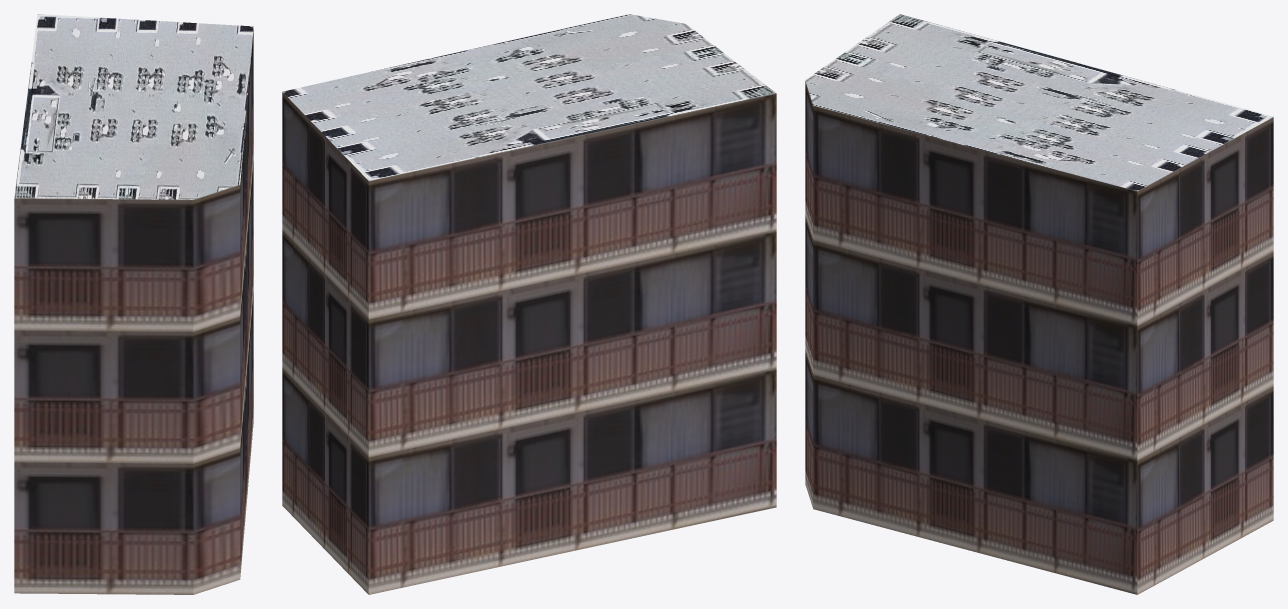
The model's file is ResTex__3722.fbx.
The picture shows the model from 3 angles, left to right: view 1: azimuth 30°, elevation 25°; view 2: azimuth 150°, elevation 25°; view 3: azimuth 270°, elevation 25°; orthographic projection. The views are drawn at different scales.
Parts seen in each view (by area): view 1: CityEngineMaterial_6_m, CityEngineMaterial_m; view 2: CityEngineMaterial_6_m, CityEngineMaterial_m; view 3: CityEngineMaterial_6_m, CityEngineMaterial_m.
Part boxes in pixels (x1=…): CityEngineMaterial_6_m: x1=14, y1=29, x2=253, y2=594; CityEngineMaterial_m: x1=14, y1=14, x2=253, y2=199; CityEngineMaterial_6_m: x1=282, y1=92, x2=776, y2=594; CityEngineMaterial_m: x1=282, y1=14, x2=776, y2=180; CityEngineMaterial_6_m: x1=805, y1=81, x2=1273, y2=594; CityEngineMaterial_m: x1=805, y1=14, x2=1273, y2=191.
Size of the model in its own units: 8.48 by 9 by 9.47.
Materials: 2 (2 with a texture image).
